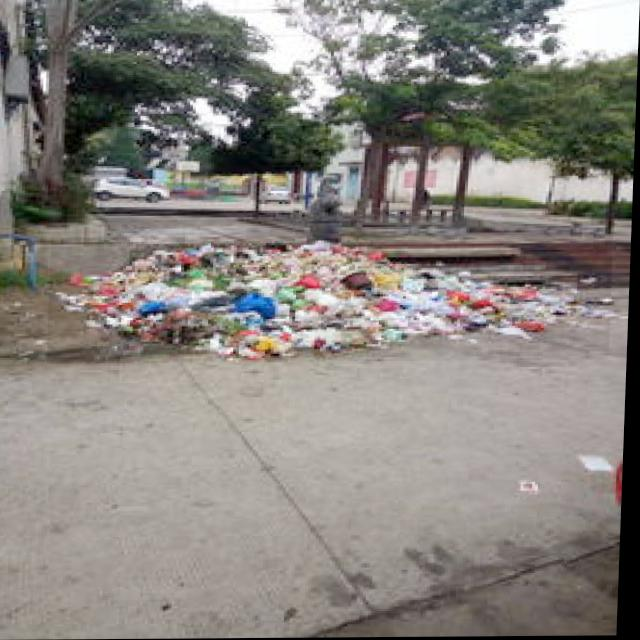garbage: (50, 235, 616, 364)
